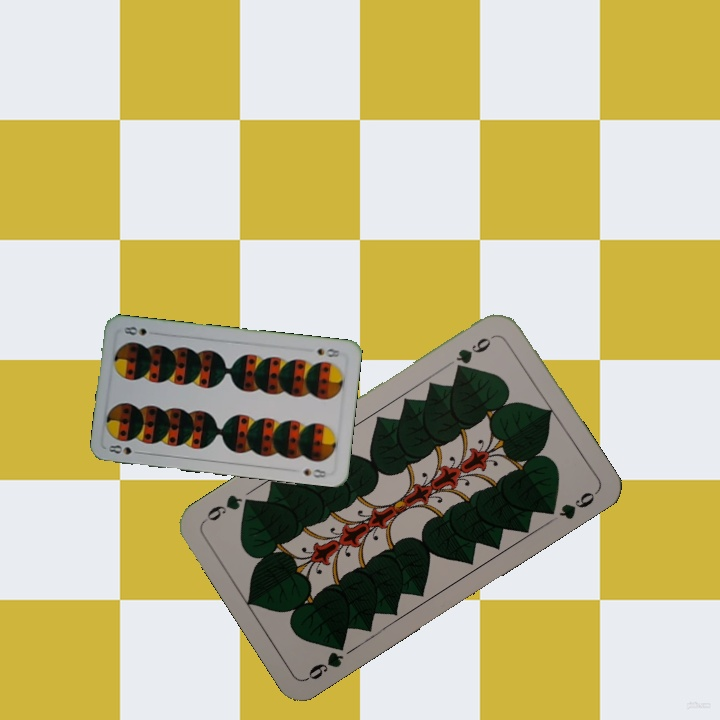G9: (302, 636, 349, 683), (451, 331, 498, 374)
S8: (104, 441, 145, 457), (313, 344, 344, 360)
